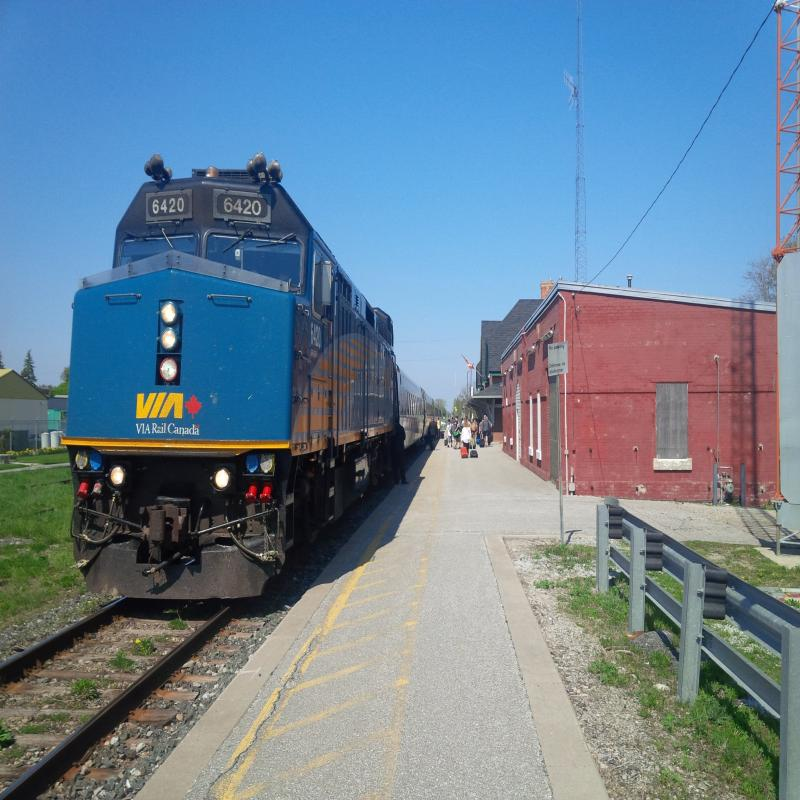train: (85, 143, 385, 624)
